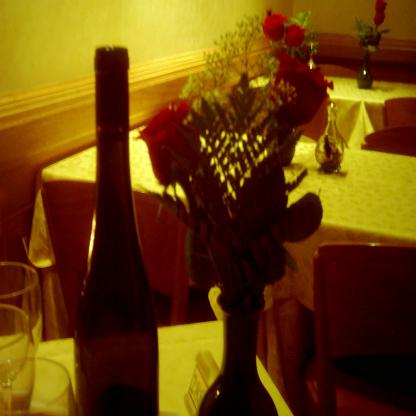vase: (195, 293, 278, 416), (314, 102, 343, 171), (264, 118, 296, 165), (356, 48, 372, 88)
